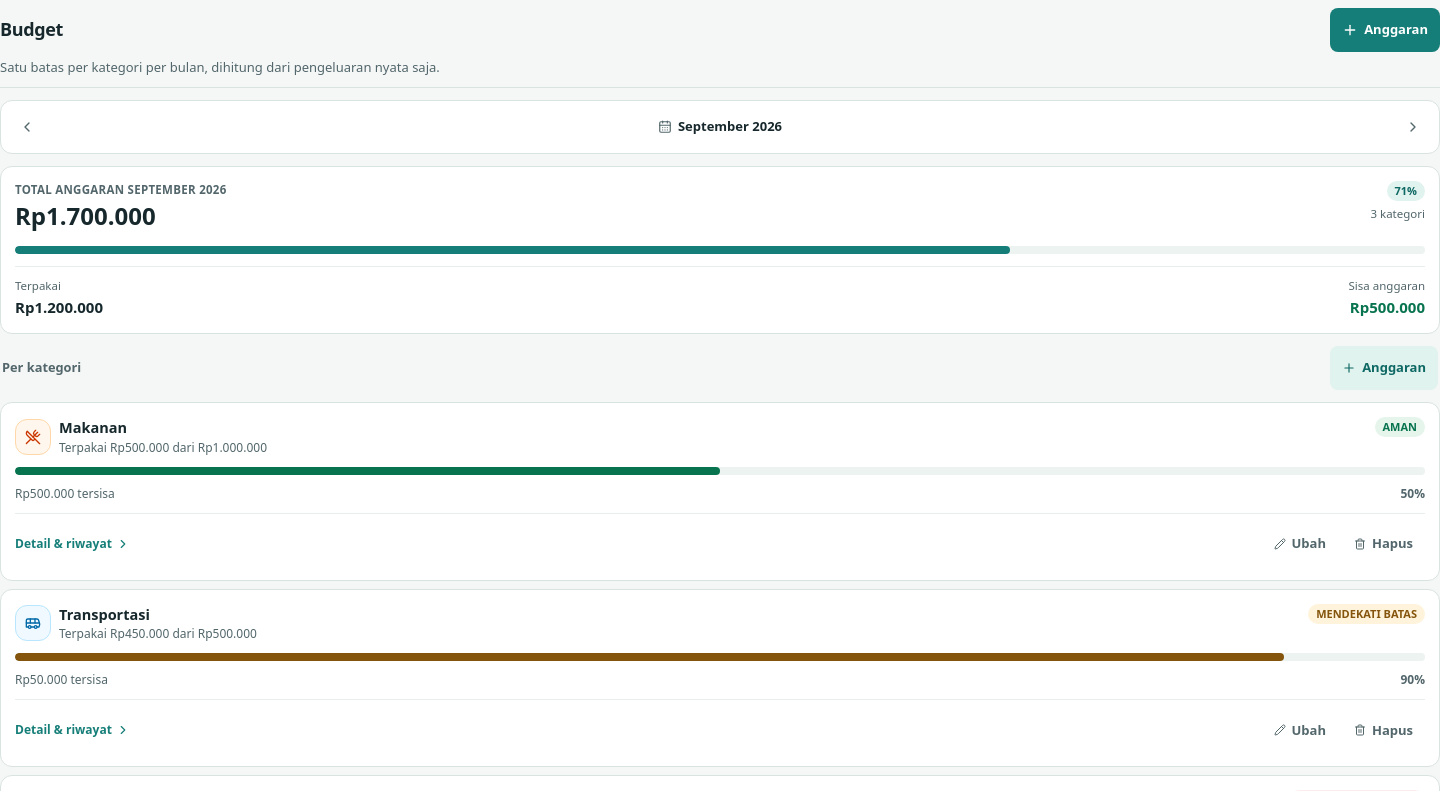
it: Budgets UX — Month Picker & Future Navigation › allows navigating to next month and future months without restriction
The image size is (1440, 791).
// Next month button in MonthPicker
Click the button named "Bulan berikutnya".
click(1413, 127)  # box top-left (1391, 105), bottom-right (1435, 149)
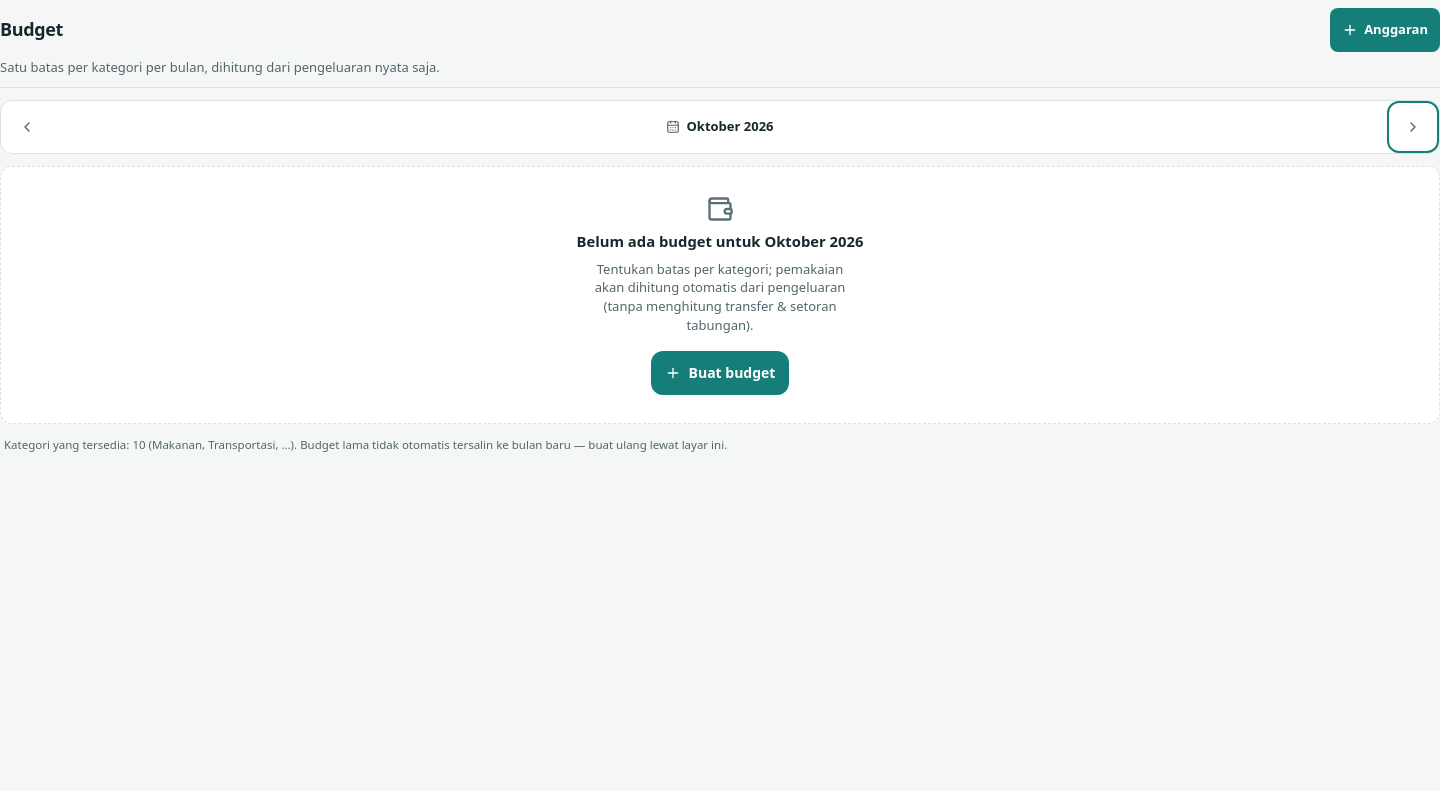
Result: the text "Belum ada budget untuk Oktober 2026" is shown at top-left (576, 231), bottom-right (863, 252)
